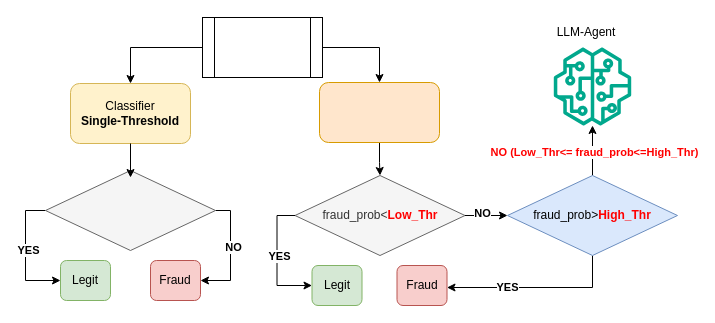
Some shapes in this 715 by 323 pixel diagram are drawn without their labels. Here are the shapes that lost their labels. From the top down, the centre of each, then its label:
At point (262, 47): "Transaction-data".
At point (379, 112): "Classifier Dual-Threshold".
At point (130, 210): "fraud_prob< Thr".
